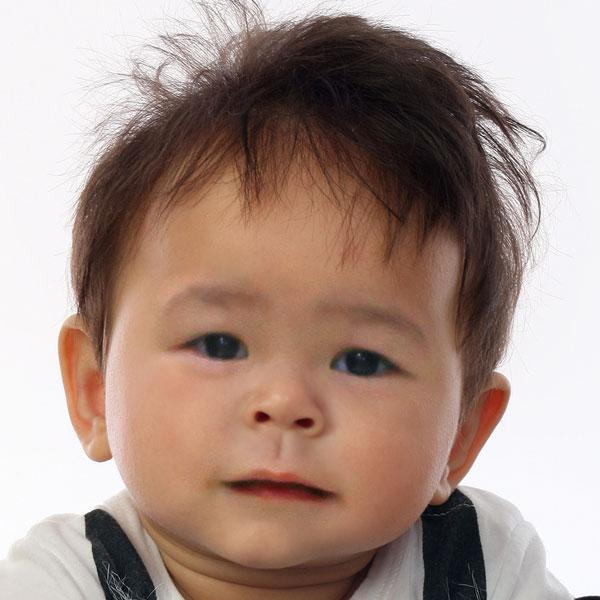Eyes: (321, 332, 415, 394), (168, 317, 261, 374)
